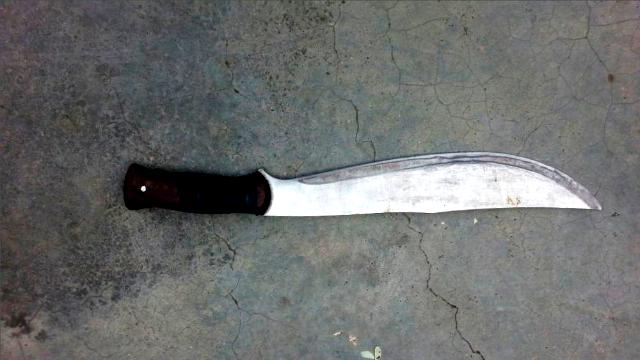long knife: (119, 131, 616, 229)
